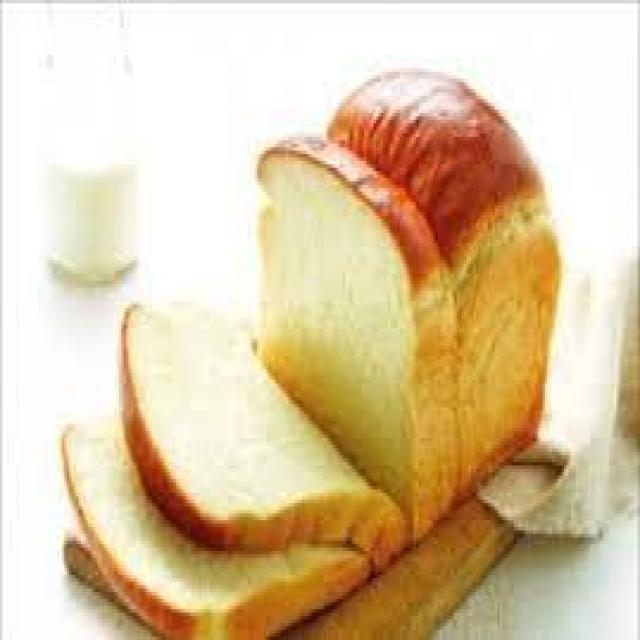bread: (259, 70, 560, 541)
